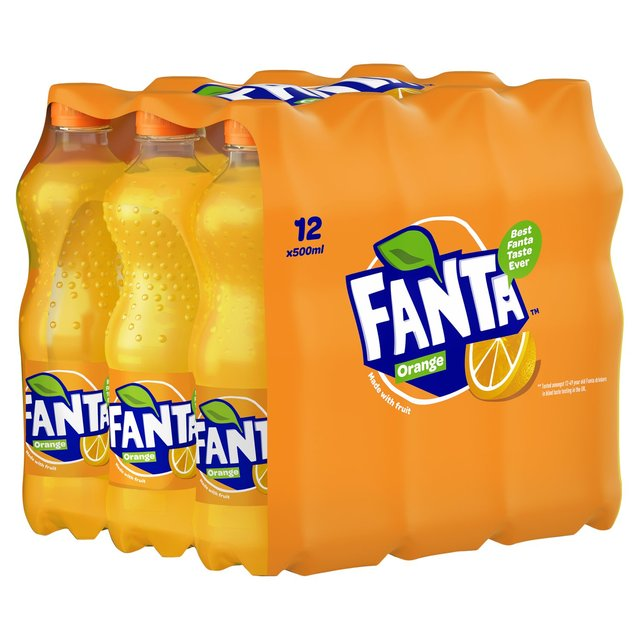Fanta: (106, 79, 205, 563), (24, 81, 123, 553), (194, 127, 295, 586)
